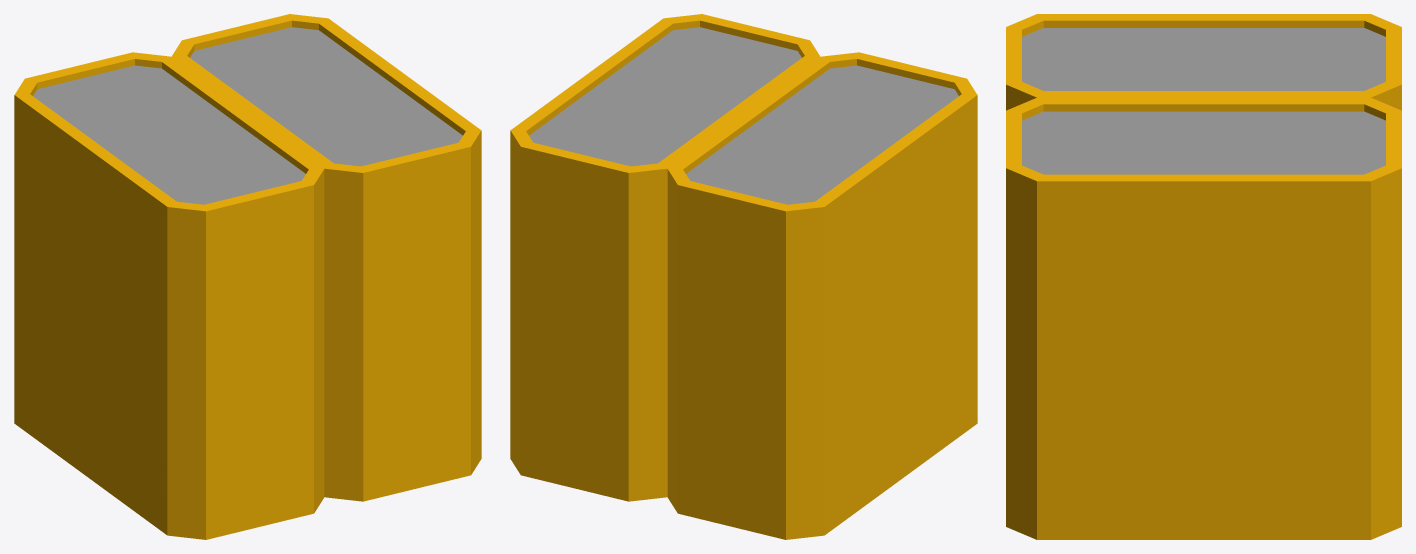
Rendered from epe_battery_cell.dae.
3 renders of one model, left to right at view 1: azimuth 30°, elevation 25°; view 2: azimuth 150°, elevation 25°; view 3: azimuth 270°, elevation 25°, orthographic. The views are drawn at different scales.
Parts seen in each view (by area): view 1: Cube.001; view 2: Cube.001; view 3: Cube.001.
Part boxes in pixels (x1=…): Cube.001: x1=14, y1=14, x2=481, y2=539; Cube.001: x1=510, y1=14, x2=977, y2=539; Cube.001: x1=1006, y1=14, x2=1401, y2=539.
Size of the model in its own units: 0.25 by 0.25 by 0.25.
